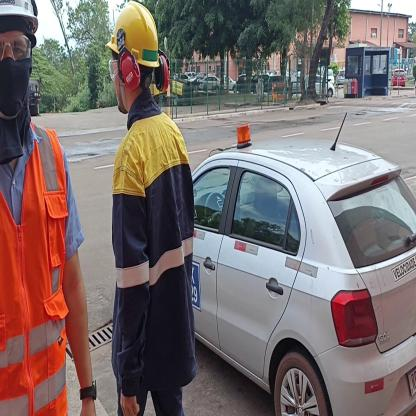Balaclava: (0, 24, 35, 121)
C_eletrica: (112, 126, 201, 390)
Capacete: (109, 3, 166, 60)
colete: (0, 131, 73, 416)
